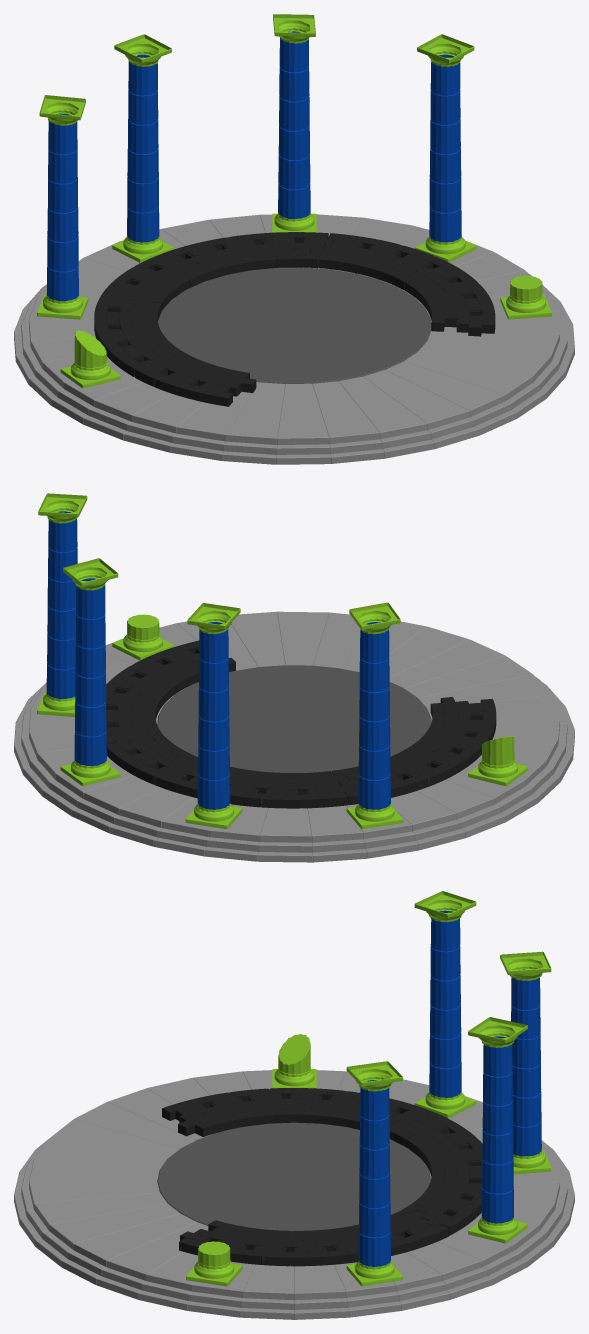
3 views of the same model, one above another, from view 1: azimuth 30°, elevation 25°; view 2: azimuth 150°, elevation 25°; view 3: azimuth 270°, elevation 25° (orthographic).
Parts seen in each view (by area): view 1: FloorSteps, FloorInner, Xol-Platf, Object073, Object071, Object072, Column004, Column2, Column3, Column1; view 2: FloorSteps, FloorInner, Xol-Platf, Object072, Object071, Object073, Column1, Column2, Column3, Column004; view 3: FloorSteps, FloorInner, Xol-Platf, Object071, Object073, Object072, Column1, Column004, Column3, Column2.
Part boxes in pixels (bbox=[...]): FloorSteps: bbox=[14, 214, 574, 464]; FloorInner: bbox=[158, 267, 431, 383]; Xol-Platf: bbox=[37, 14, 551, 388]; Object073: bbox=[310, 233, 495, 336]; Object071: bbox=[94, 295, 256, 406]; Object072: bbox=[100, 232, 334, 310]; Column004: bbox=[429, 54, 461, 242]; Column2: bbox=[127, 54, 159, 242]; Column3: bbox=[278, 31, 310, 219]; Column1: bbox=[47, 113, 78, 301]; FloorSteps: bbox=[14, 611, 574, 862]; FloorInner: bbox=[157, 665, 431, 772]; Xol-Platf: bbox=[37, 493, 528, 829]; Object072: bbox=[106, 735, 348, 808]; Object071: bbox=[332, 697, 496, 805]; Object073: bbox=[106, 640, 235, 744]; Column1: bbox=[358, 622, 390, 809]; Column2: bbox=[197, 622, 230, 809]; Column3: bbox=[74, 578, 106, 766]; Column004: bbox=[46, 511, 77, 699]; FloorSteps: bbox=[14, 1070, 574, 1319]; FloorInner: bbox=[157, 1122, 430, 1232]; Xol-Platf: bbox=[186, 891, 551, 1286]; Object071: bbox=[162, 1088, 433, 1138]; Object073: bbox=[179, 1210, 448, 1266]; Object072: bbox=[390, 1112, 482, 1235]; Column1: bbox=[429, 910, 461, 1097]; Column004: bbox=[358, 1080, 390, 1267]; Column3: bbox=[481, 1036, 513, 1223]; Column2: bbox=[511, 969, 541, 1156].
Size of the model in its own units: 757 by 332 by 757.
